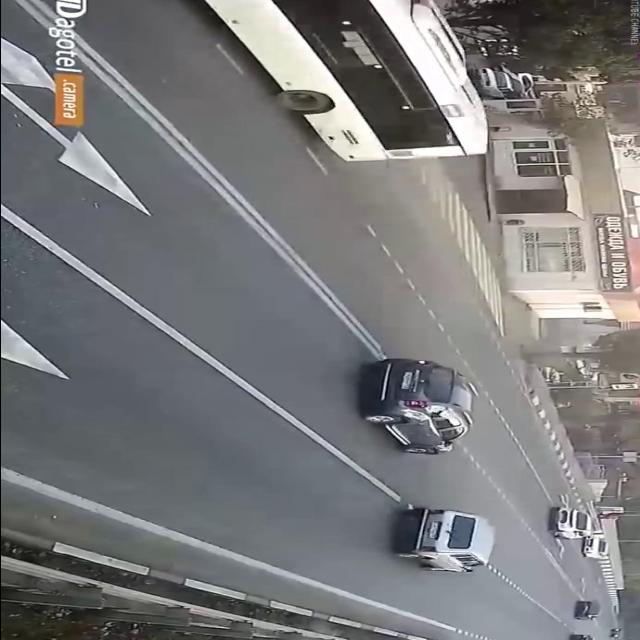non_accident: (348, 352, 502, 580), (542, 502, 614, 562)
